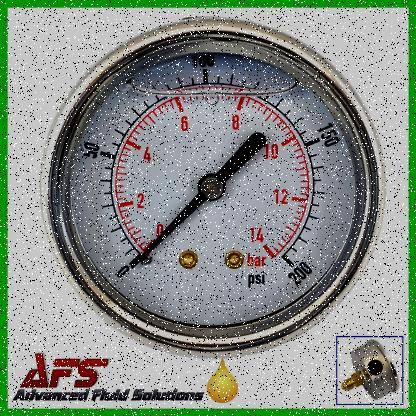needle: (128, 191, 209, 271)
